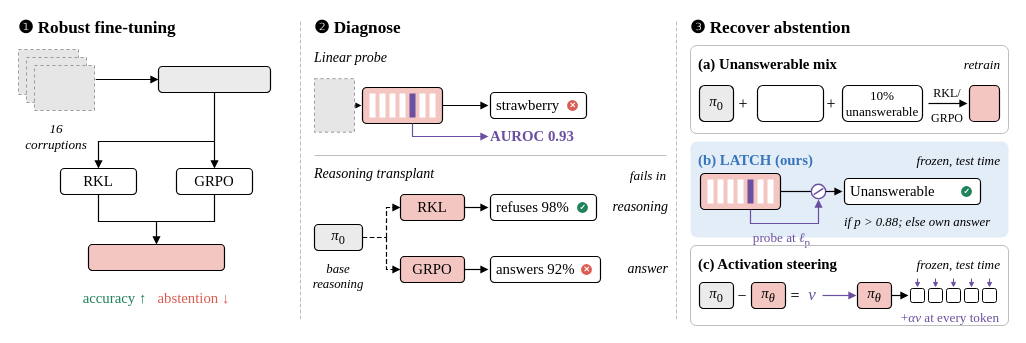
Image size: 1026x343. Some labels were removed from this diagram. Grey dashed boxes stand in for pictures. Here are the shapes that lost their labels. From the top down, the centre of each, then its label:
At [214,79]: "Base VLM π 0".
At [790,103]: "90% corrupted".
At [984,103]: "π θ ′".
At [156,257]: "Fine-tuned π θ".
